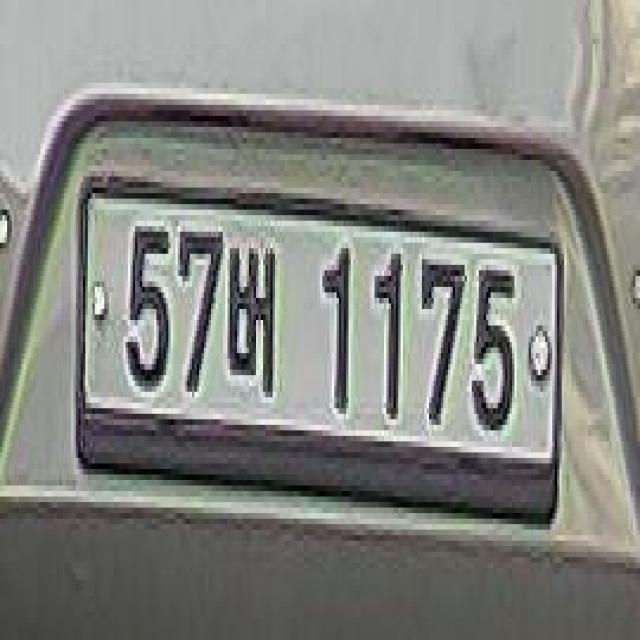1: (368, 240, 408, 428), (320, 230, 358, 420)
5: (120, 213, 172, 400), (472, 252, 517, 443)
7: (176, 213, 226, 409), (417, 245, 468, 437)
beo: (229, 224, 279, 414)
license_plate: (69, 158, 568, 544)
